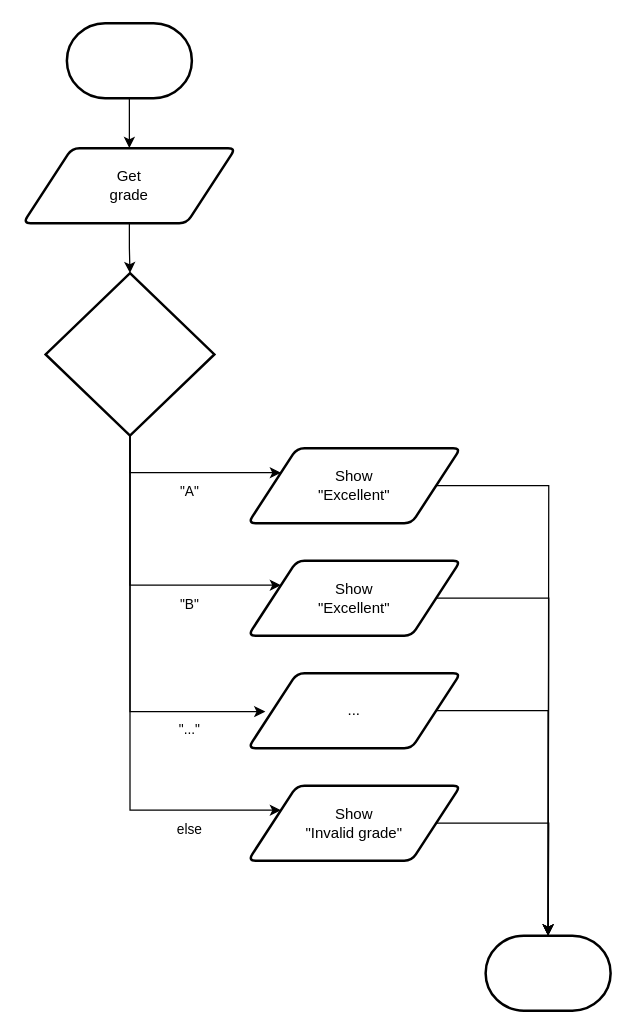
The diagram is 633 pixels wide and 1033 high, and some of its shapes have lost their labels. The shapes that lost their labels are listed below. From the top down, each one's centre as x and y in pixels, then its label:
the point at 128,60: Start
the point at 129,353: If grade
the point at 547,972: Stop
